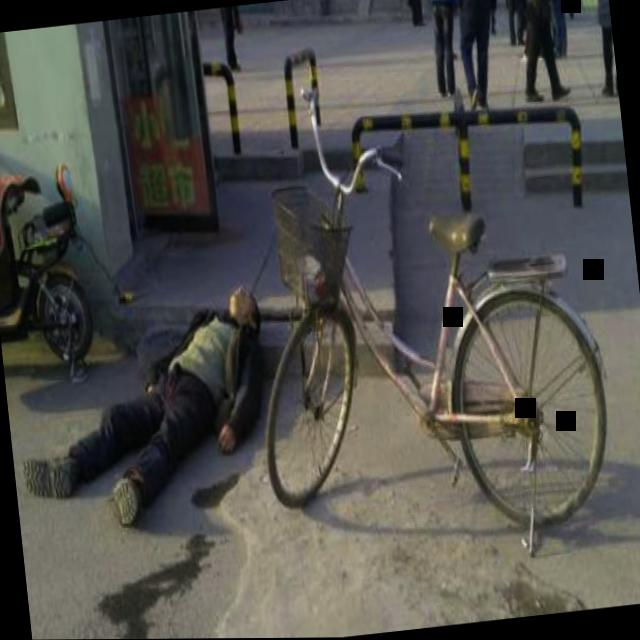Fall-Detected: (0, 264, 283, 539)
